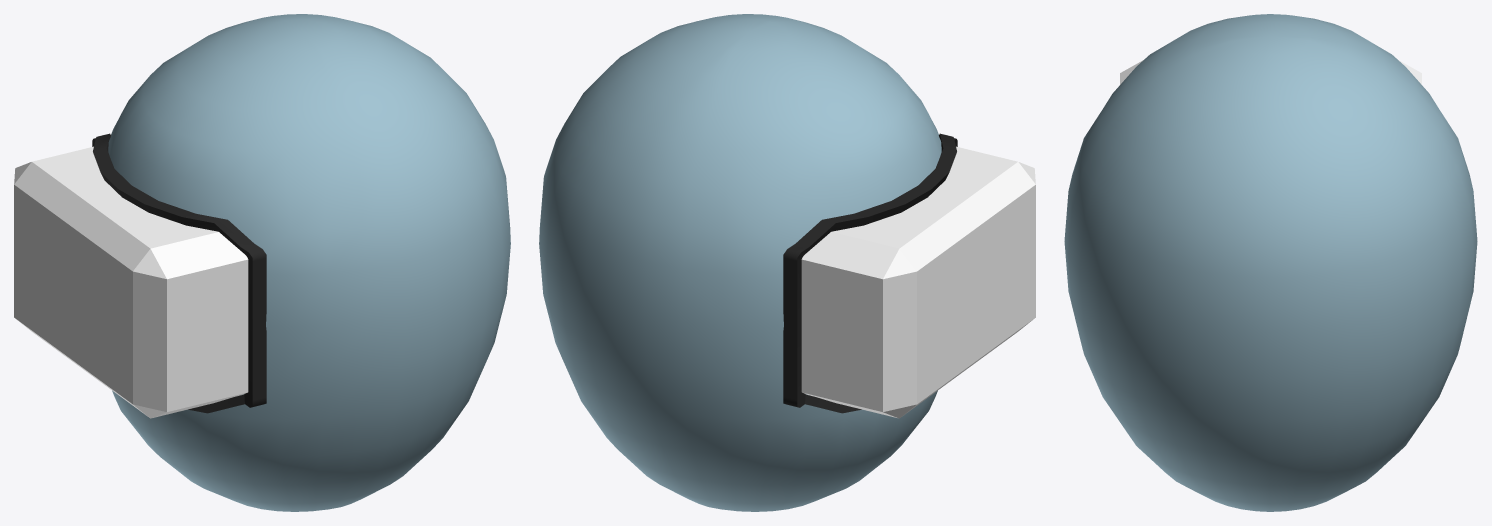
The model's file is cabezaVR.fbx.
3 renders of one model, left to right at view 1: azimuth 30°, elevation 25°; view 2: azimuth 150°, elevation 25°; view 3: azimuth 270°, elevation 25°, orthographic.
Parts seen in each view (by area): view 1: Cube.003; view 2: Cube.003; view 3: Cube.003.
Boxes of the visible parts, x1,y1,x2,y2 form: Cube.003: [14, 14, 510, 511]; Cube.003: [539, 14, 1035, 511]; Cube.003: [1064, 14, 1477, 511].
Size of the model in its own units: 71.8 by 82.06 by 88.8.
